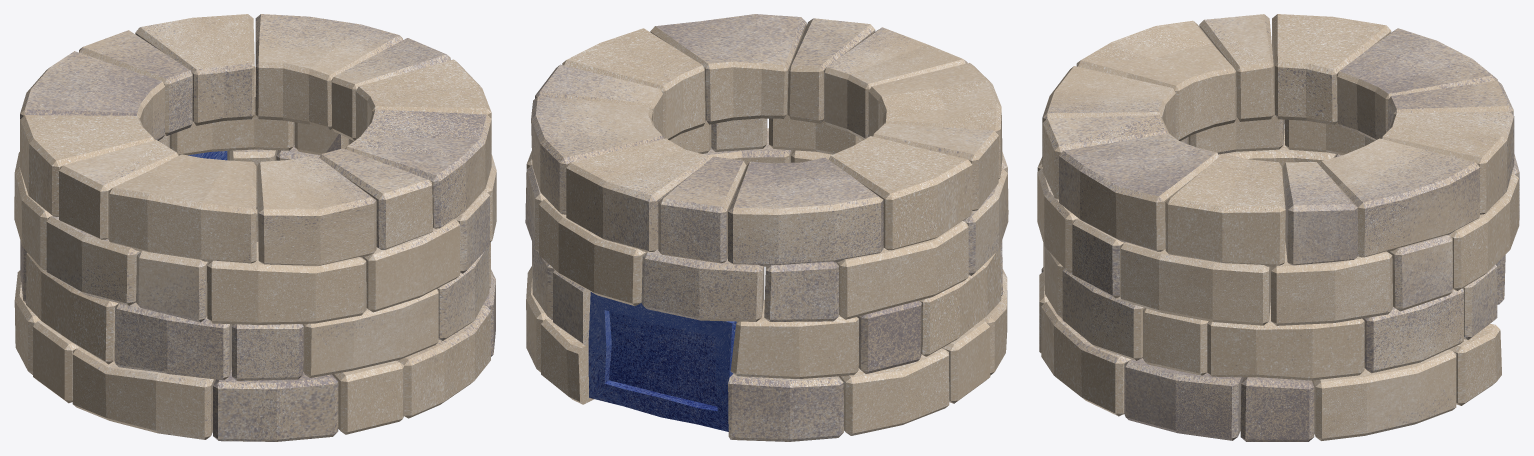
Rendered from _OLD_forno_texture.glb.
The picture shows the model from 3 angles, left to right: view 1: azimuth 30°, elevation 25°; view 2: azimuth 150°, elevation 25°; view 3: azimuth 270°, elevation 25°; orthographic projection.
Parts seen in each view (by area): view 1: liv_04, liv_03, liv_01, liv_02; view 2: liv_04, liv_03, liv_01, liv_02, door; view 3: liv_04, liv_03, liv_01, liv_02.
Boxes of the visible parts, bbox=[...] form: liv_04: bbox=[20, 14, 491, 265]; liv_03: bbox=[14, 67, 496, 324]; liv_01: bbox=[14, 209, 495, 441]; liv_02: bbox=[20, 145, 490, 380]; liv_04: bbox=[531, 14, 1002, 265]; liv_03: bbox=[525, 113, 1008, 321]; liv_01: bbox=[526, 266, 1007, 441]; liv_02: bbox=[532, 128, 1002, 378]; door: bbox=[588, 292, 736, 431]; liv_04: bbox=[1042, 14, 1514, 266]; liv_03: bbox=[1037, 95, 1519, 325]; liv_01: bbox=[1039, 241, 1505, 441]; liv_02: bbox=[1043, 129, 1497, 380].
Bounding box in the file's own units: 3.73 × 2.01 × 3.73.
Materials: 2 (2 with a texture image).
